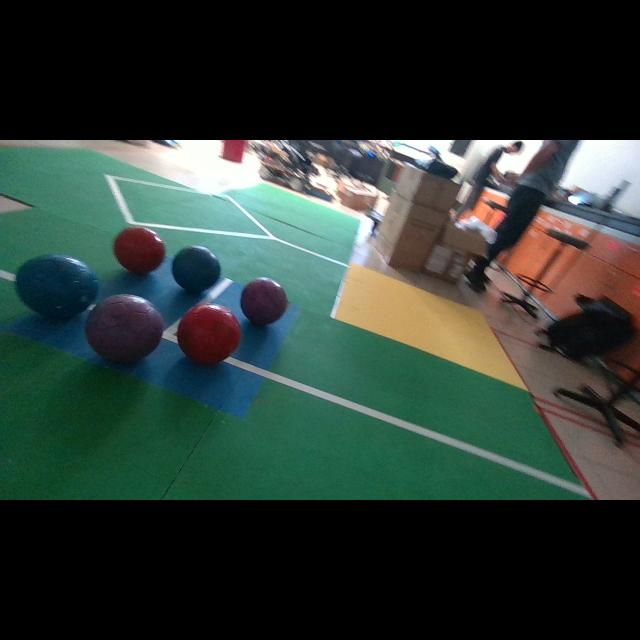B: (16, 254, 98, 318), (172, 246, 221, 292)
P: (85, 295, 164, 363), (240, 278, 288, 326)
R: (178, 304, 241, 364), (114, 228, 165, 275)
